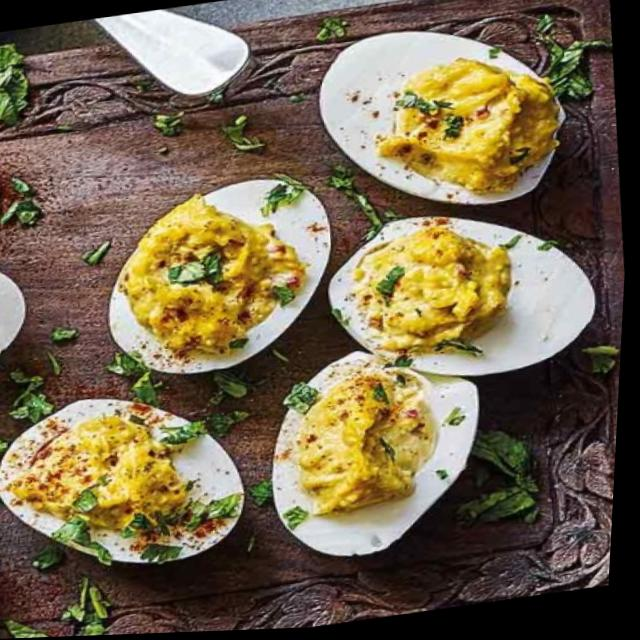EGG: (273, 220, 593, 555), (111, 175, 329, 371), (321, 32, 563, 203), (0, 397, 243, 566)
